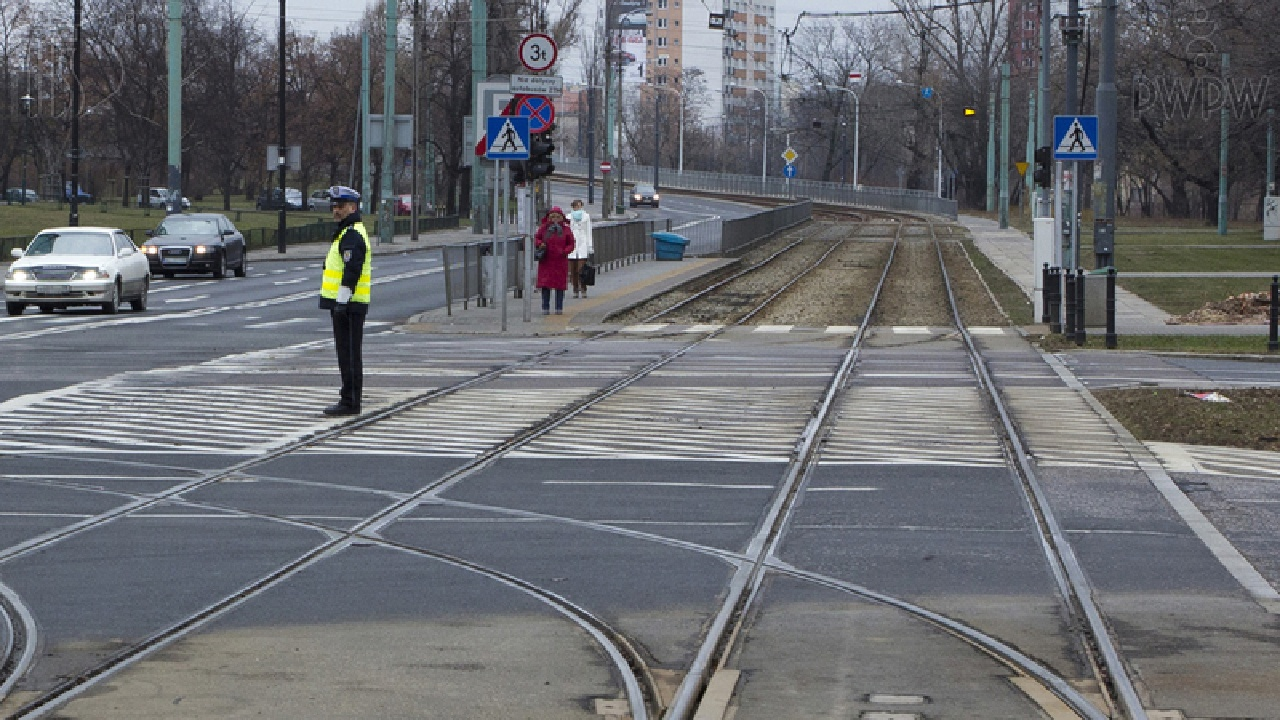D6: (1054, 116, 1098, 160), (487, 116, 530, 160)
